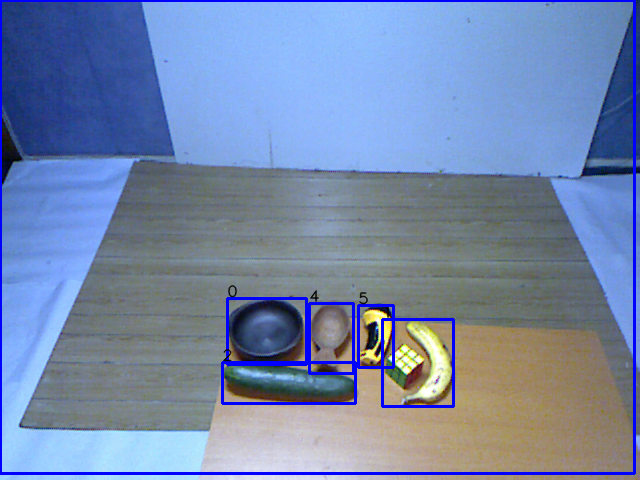cubix: (381, 342, 427, 394)
greda: (223, 295, 306, 368)
linterna: (355, 302, 396, 374)
pepino: (219, 359, 360, 406)
pescado: (306, 297, 353, 370)
platano: (394, 316, 459, 409)
